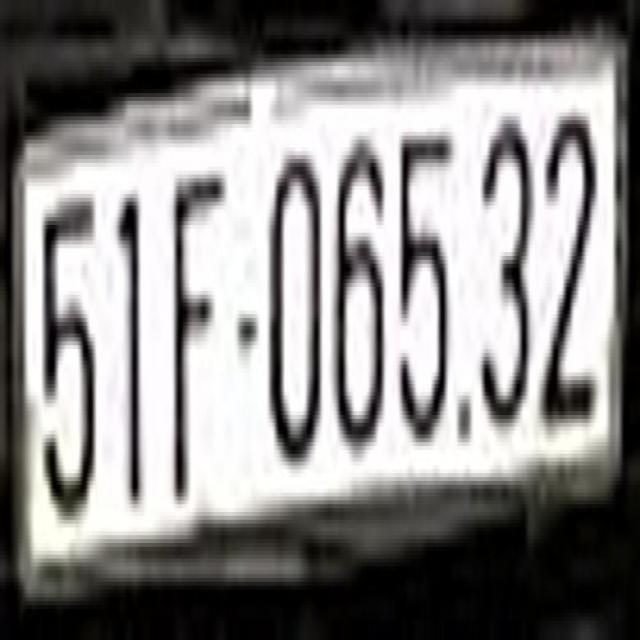0: (270, 148, 319, 462)
1: (112, 167, 144, 492)
2: (546, 108, 594, 416)
3: (482, 116, 528, 404)
5: (44, 190, 97, 512), (399, 128, 452, 434)
6: (338, 128, 388, 434)
F: (170, 163, 227, 485)
